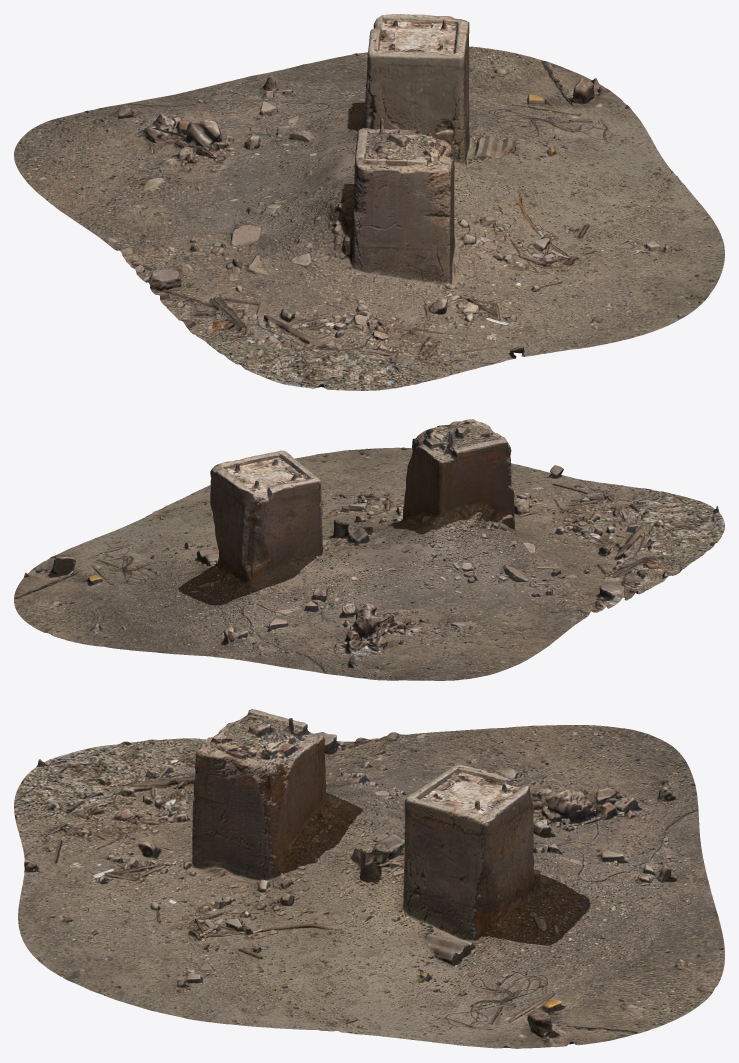
The model's file is MOD_TwinConcretePads.fbx.
3 renders of one model, top to bottom at view 1: azimuth 30°, elevation 25°; view 2: azimuth 150°, elevation 25°; view 3: azimuth 270°, elevation 25°, orthographic. The views are drawn at different scales.
Parts seen in each view (by area): view 1: MOD_TwinConcretePads; view 2: MOD_TwinConcretePads; view 3: MOD_TwinConcretePads.
Part boxes in pixels (left/top/right/bottom): MOD_TwinConcretePads: left=14, top=14, right=724, bottom=390; MOD_TwinConcretePads: left=14, top=419, right=724, bottom=680; MOD_TwinConcretePads: left=14, top=709, right=724, bottom=1048.
Bounding box in the file's own units: 490 × 124 × 509.
